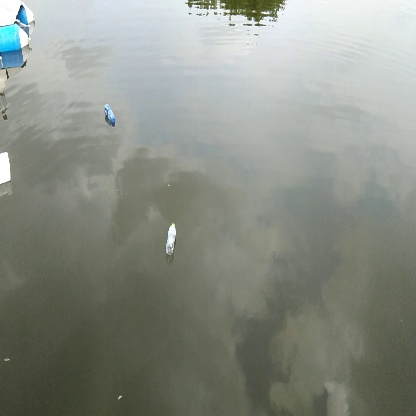bottle: (161, 220, 180, 256), (100, 100, 121, 128)
